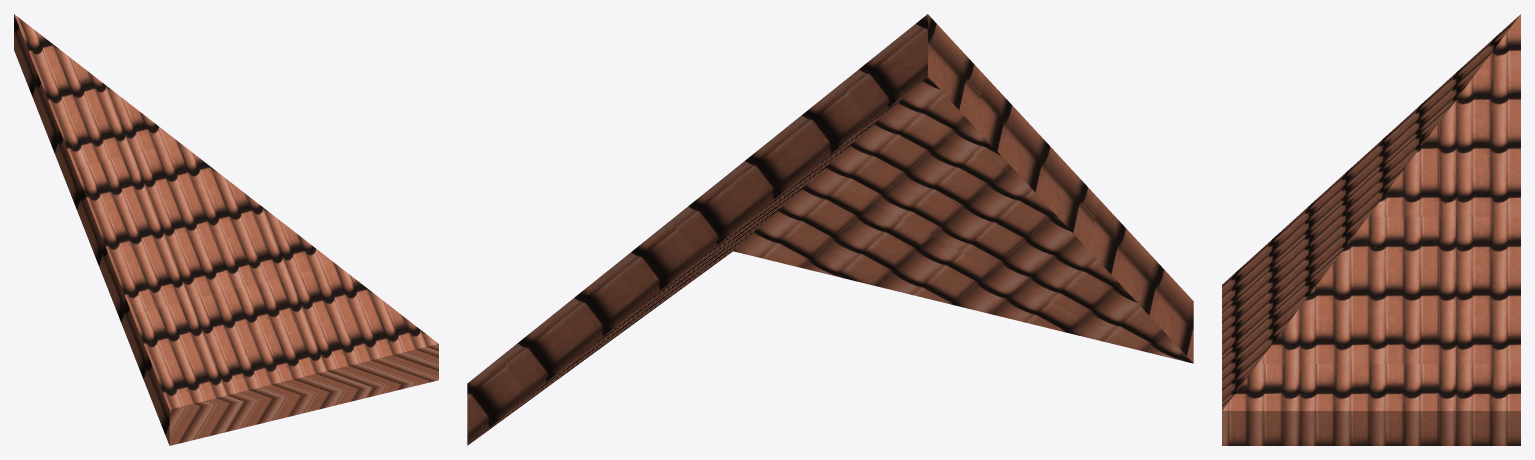
File: kit_Roof corner.glb
The picture shows the model from 3 angles, left to right: view 1: azimuth 30°, elevation 25°; view 2: azimuth 150°, elevation 25°; view 3: azimuth 270°, elevation 25°; orthographic projection. The views are drawn at different scales.
Visible parts, largest first — view 1: Cube; view 2: Cube; view 3: Cube.
Boxes of the visible parts, x1,y1,x2,y2 form: Cube: [14, 14, 438, 445]; Cube: [467, 14, 1193, 445]; Cube: [1222, 14, 1520, 445].
Bounding box in the file's own units: 1 × 1.13 × 1.
1 material, 1 textured.
